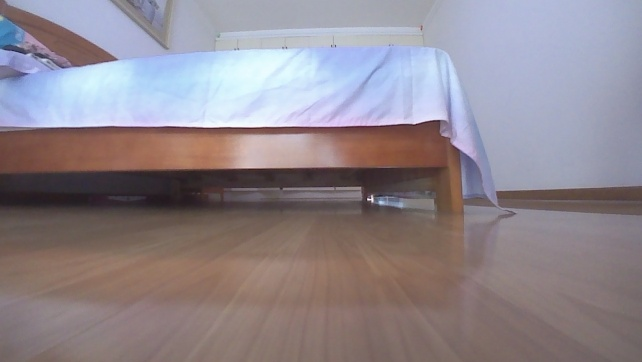bed: (0, 0, 518, 218)
